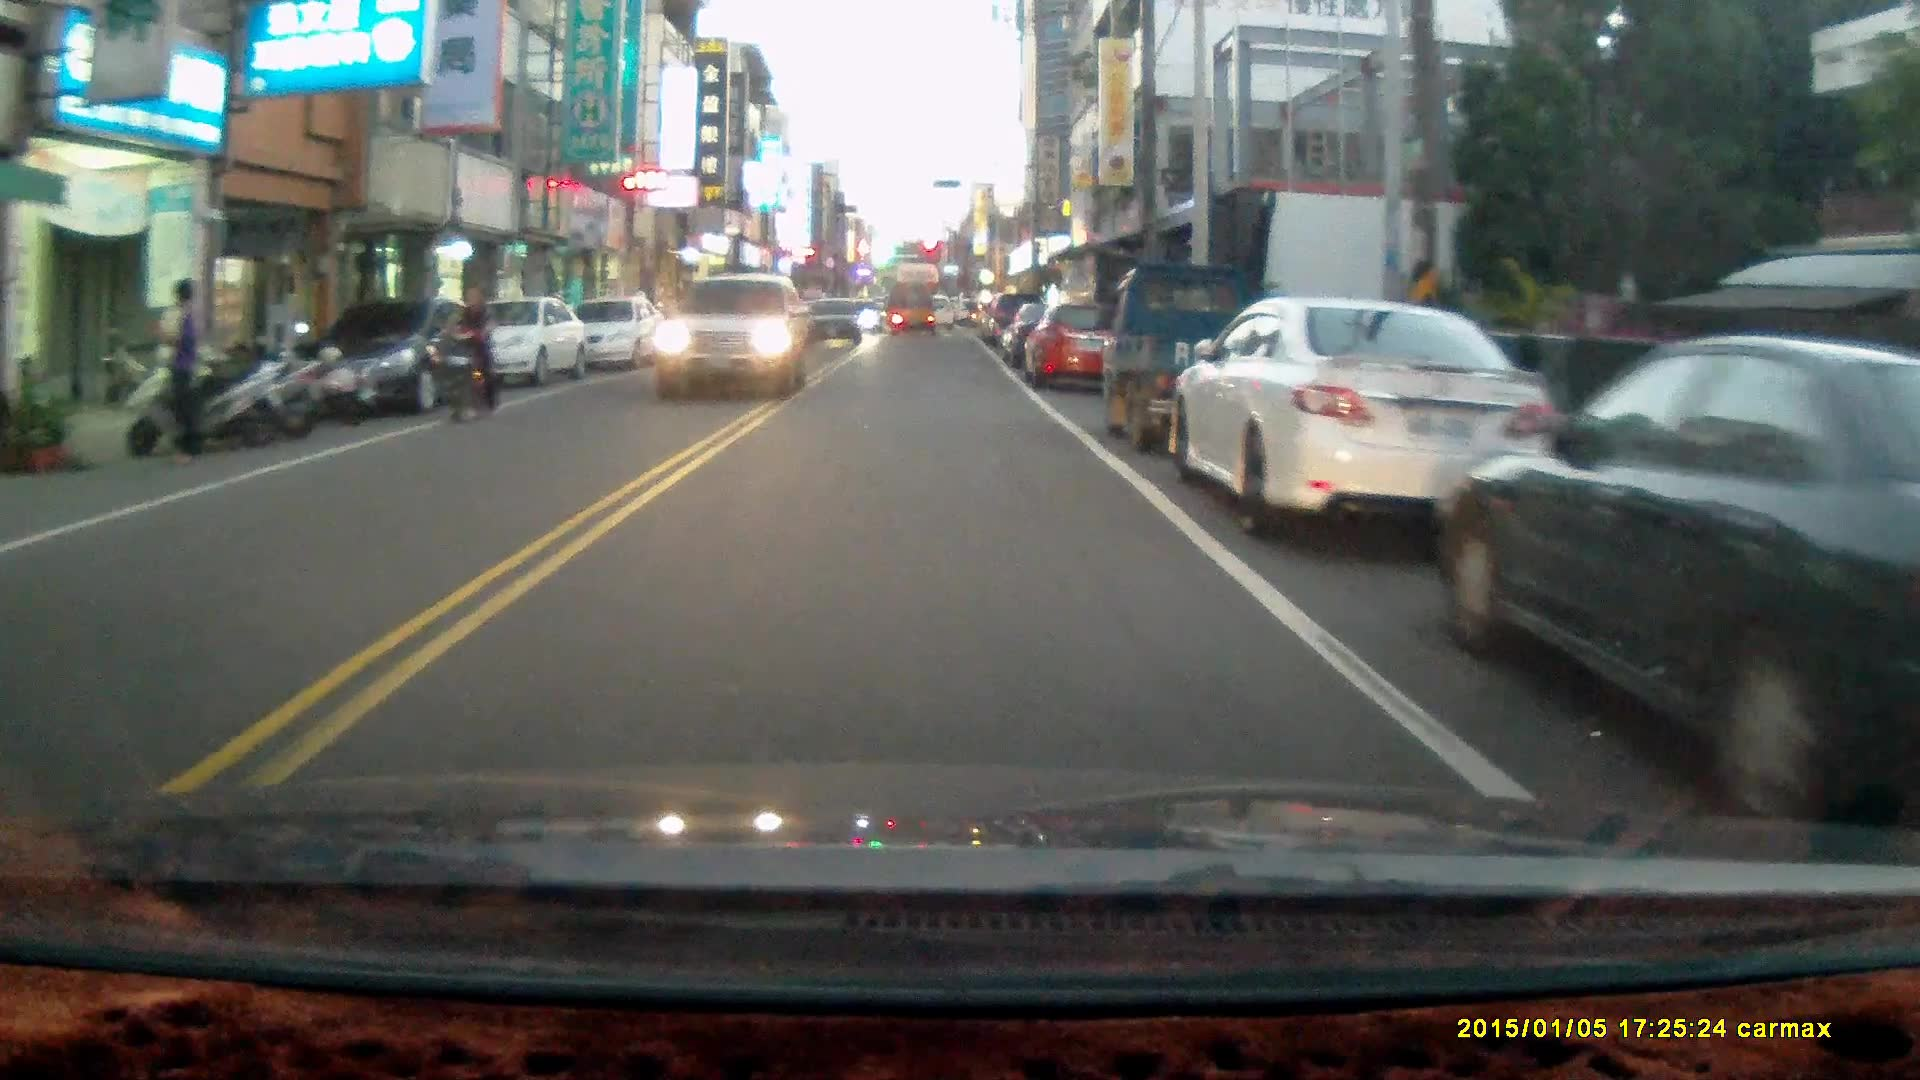pedestrian: (146, 274, 201, 468)
rider: (440, 280, 499, 421)
vehicle: (1442, 330, 1920, 837), (1171, 295, 1565, 536), (1099, 257, 1292, 459), (289, 285, 490, 410), (647, 274, 808, 397), (1026, 297, 1121, 392), (563, 298, 666, 370), (801, 297, 865, 349), (887, 279, 940, 336)
